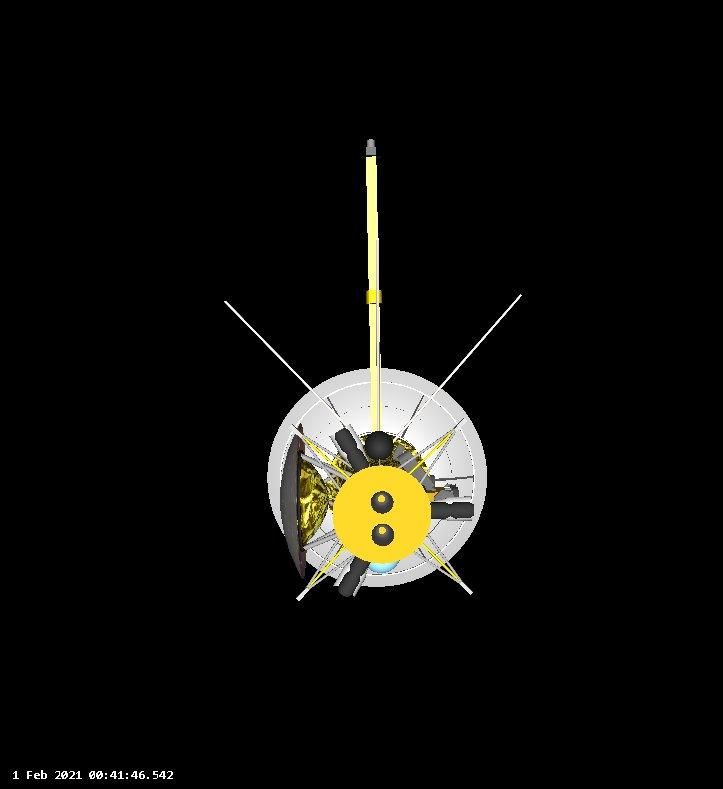antenna: (264, 369, 488, 593), (387, 288, 530, 445), (221, 298, 349, 430), (278, 420, 331, 581)
body: (321, 427, 437, 562)
thruster: (369, 521, 397, 548), (368, 490, 396, 516)
